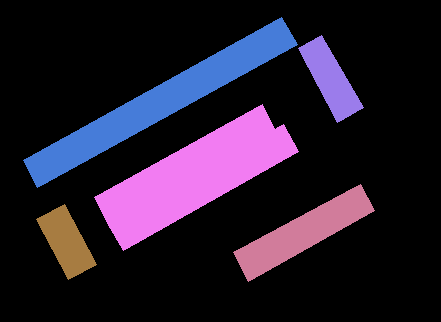parkingspot: (23, 17, 297, 187), (107, 124, 298, 250), (94, 104, 274, 222), (233, 184, 374, 281), (298, 35, 363, 122), (36, 204, 96, 279)
